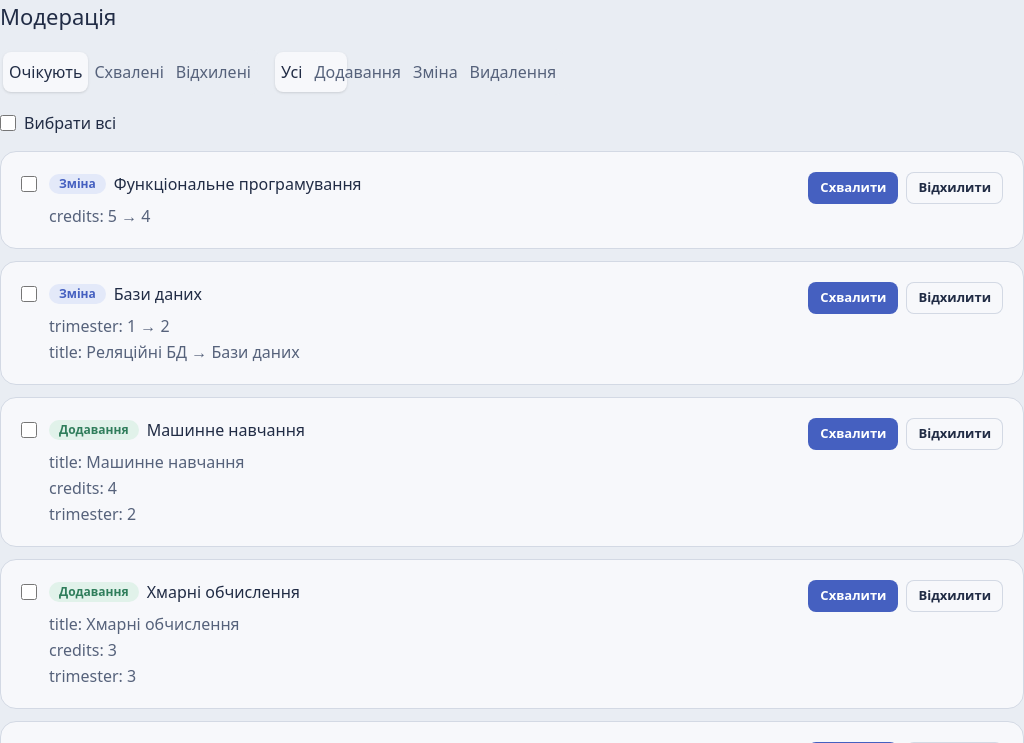
Test case: ModerationPage › вибір карток вмикає масові дії; «Вибрати всі» відмічає сторінку
This screenshot has width=1024, height=743.
Expected: the element named "Запис 501" is shown, [0, 151, 1023, 249]
Expected: the button "Схвалити вибрані" is not shown
Click the checkbox named "Вибрати запис 501".
click(29, 184)  # box [21, 176, 37, 192]
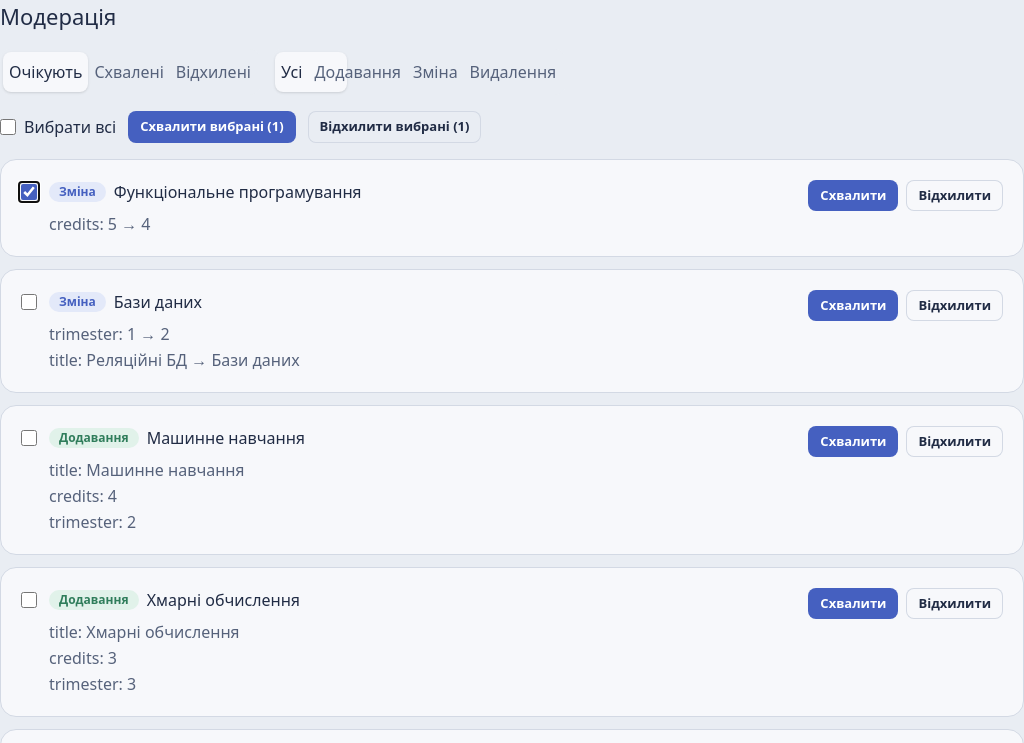
Click the checkbox named "Вибрати запис 502".
click(29, 302)  # box [21, 294, 37, 310]
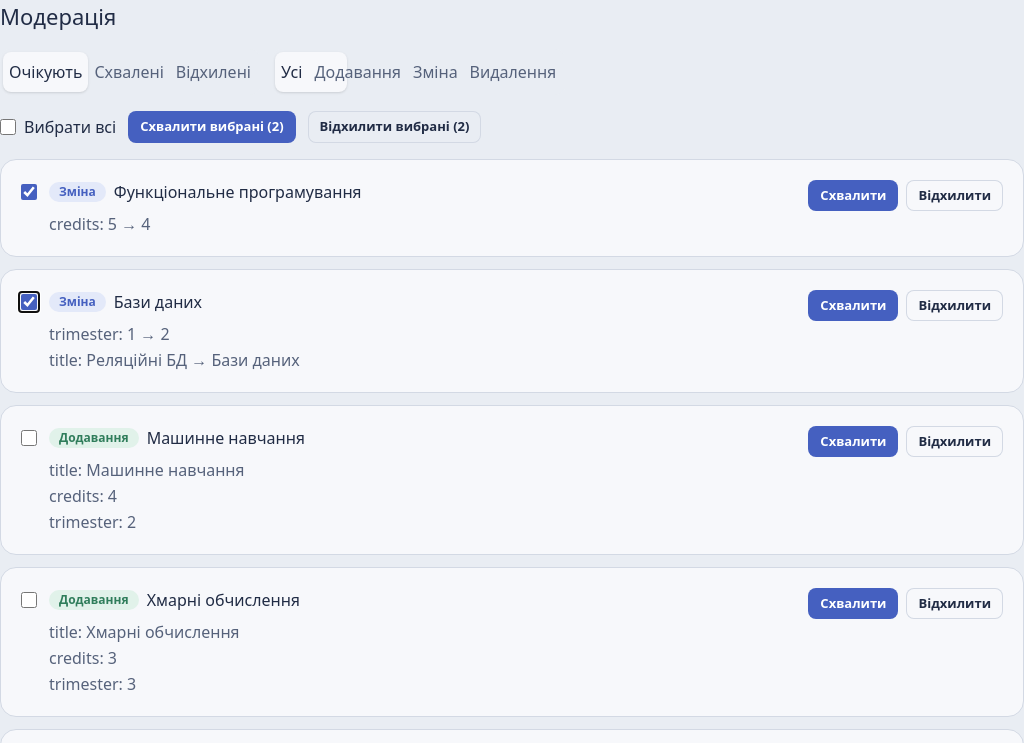
Result: the button "Схвалити вибрані (2)" is shown at [128, 111, 296, 142]
Result: the button "Відхилити вибрані (2)" is shown at [308, 111, 481, 142]
Click the checkbox labelled "Вибрати всі".
click(8, 127)  # box [0, 119, 16, 135]
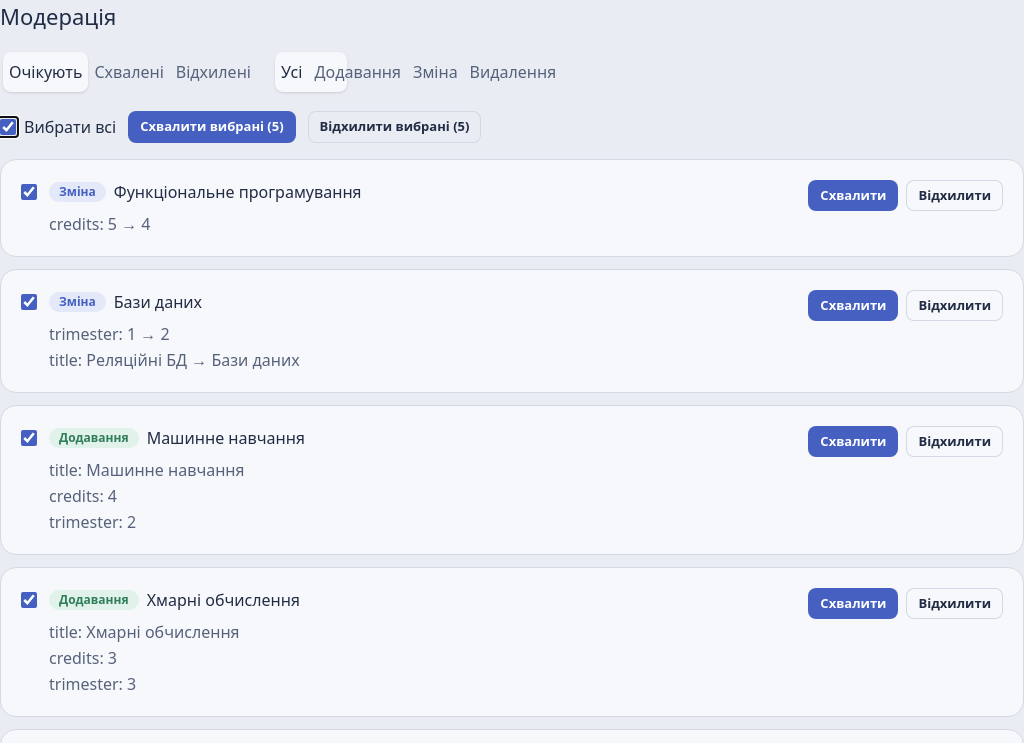
Result: the button "Схвалити вибрані (5)" is shown at [128, 111, 296, 142]
